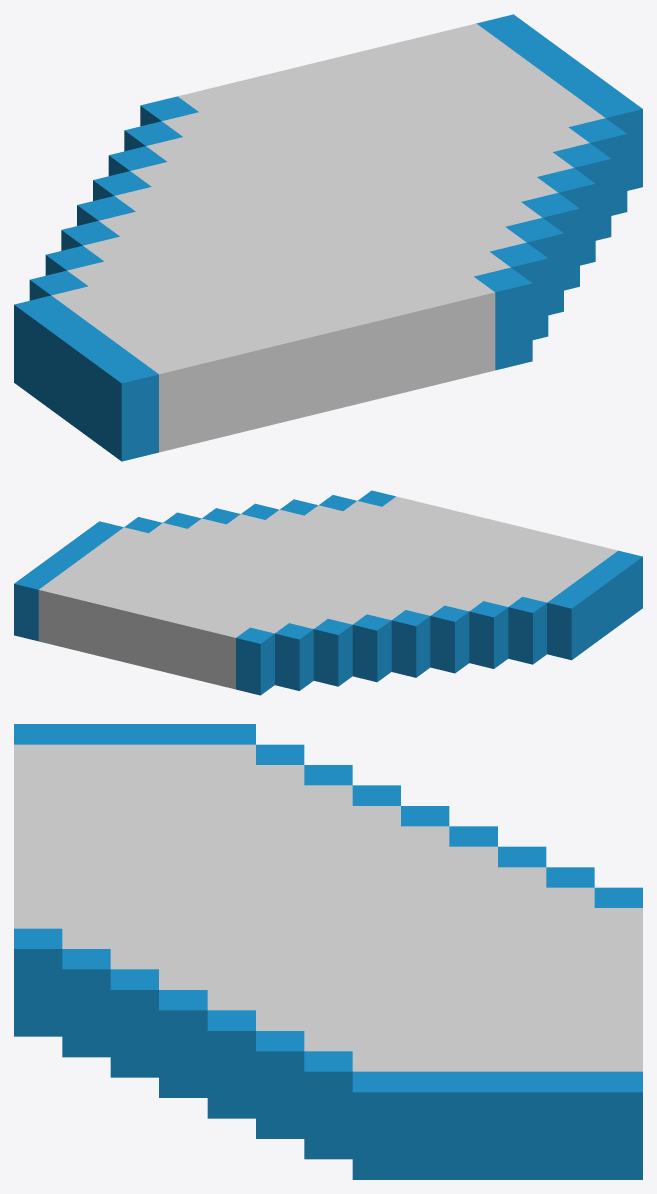
File: DefaultRight.fbx
The picture shows the model from 3 angles, top to bottom: view 1: azimuth 30°, elevation 25°; view 2: azimuth 150°, elevation 25°; view 3: azimuth 270°, elevation 25°; orthographic projection. The views are drawn at different scales.
Visible parts, largest first — view 1: Matrix_4; view 2: Matrix_4; view 3: Matrix_4.
Boxes of the visible parts, box(x1,y1,x2,y2) form: Matrix_4: box(14, 14, 642, 461); Matrix_4: box(14, 490, 642, 695); Matrix_4: box(14, 724, 642, 1179).
Size of the model in its own units: 18 by 2 by 13.
